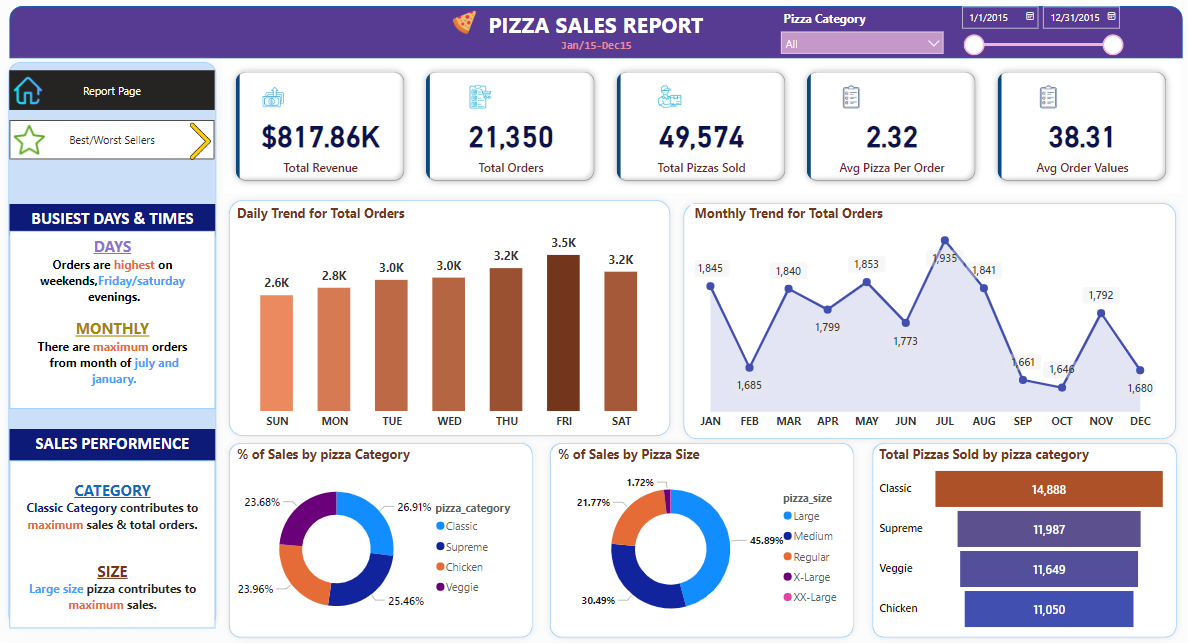

The dashboard page shown, as its layout file describes it:
{"tool":"powerbi","page":{"name":"Report Page","canvas":[1500,820],"ordinal":0},"visuals":[{"type":"cardVisual","fields":{"Data":["Measure Table.Total Revenue","Measure Table.Total Orders","Measure Table.Total sold","Measure Table.Avg Pizza Per Order","Measure Table.Avg Order Values"]},"box":[274.4,90.8,1194.3,168.3],"z":0},{"type":"shape","box":[9.3,25.8,1459.7,65.1],"z":1000},{"type":"textbox","box":[594,25.8,291.3,53.7],"z":2000},{"type":"textbox","box":[684.9,58.9,108.5,28.9],"z":3000},{"type":"image","box":[433.9,26.9,284.1,40.3],"z":4000},{"type":"shape","box":[274.8,259.3,565.1,309.9],"z":5000},{"type":"shape","box":[0,87.8,274.8,720],"z":6000},{"type":"columnChart","title":"Daily Trend for Total Orders","fields":{"Category":["pizza_sales.Order Day"],"Y":["Measure Table.Total Orders"]},"box":[288.2,272.7,538.2,289.3],"z":7000},{"type":"shape","box":[839.9,262.4,629.1,309.9],"z":8000},{"type":"areaChart","title":"Monthly Trend for Total Orders","fields":{"Category":["pizza_sales.Order Month"],"Y":["Measure Table.Total Orders"]},"box":[856.4,272.7,583.7,289.3],"z":9000},{"type":"shape","box":[274.8,562,394,258.3],"z":10000},{"type":"shape","box":[1074.4,562,394.6,258.3],"z":11000},{"type":"shape","box":[674.6,562,394,258.3],"z":12000},{"type":"donutChart","title":"% of Sales by pizza Category","fields":{"Category":["pizza_sales.pizza_category"],"Y":["Measure Table.Total Revenue"]},"box":[288.2,572.3,366.7,235.5],"z":13000},{"type":"textbox","box":[9.3,272.7,256.2,40.3],"z":14000},{"type":"donutChart","title":"% of Sales by Pizza Size","fields":{"Category":["pizza_sales.pizza_size"],"Y":["Measure Table.Total Revenue"]},"box":[687,572.3,369.8,235.5],"z":15000},{"type":"funnel","title":"Total Pizzas Sold by pizza category","fields":{"Category":["pizza_sales.pizza_category"],"Y":["Measure Table.Total Pizzas Sold"]},"box":[1086.8,572.3,367.8,235.5],"z":16000},{"type":"textbox","box":[9.3,305.8,256.2,221.1],"z":17000},{"type":"textbox","box":[9.3,551.7,256.2,40.3],"z":18000},{"type":"textbox","box":[9.3,591.9,256.2,208.7],"z":19000},{"type":"slicer","fields":{"Values":["pizza_sales.pizza_category"]},"box":[958.7,25.8,222.1,64],"z":20000},{"type":"slicer","fields":{"Values":["pizza_sales.order_date"]},"box":[1181,17.3,222.3,73.4],"z":21000},{"type":"pageNavigator","box":[9.2,106.1,256,50],"z":21001},{"type":"pageNavigator","box":[9.2,168.3,256,50],"z":21002},{"type":"image","box":[9.2,106.1,45.9,50],"z":21003},{"type":"image","box":[218.3,165.2,56.1,56.1],"z":21005},{"type":"image","box":[9.2,168.3,49,49],"z":21006}]}

Visuals, with their boxes in screenshot pixels (x1, y1, x2, y2), scaled from the page's 1500x820 canvas onto the 1188x643 screenshot:
cardVisual - Measure Table.Total Revenue x Measure Table.Total Orders: [217,71,1163,203]
shape: [7,20,1163,71]
textbox: [470,20,701,62]
textbox: [542,46,628,69]
image: [344,21,569,53]
shape: [218,203,665,446]
shape: [0,69,218,633]
"Daily Trend for Total Orders" columnChart: [228,214,655,441]
shape: [665,206,1163,449]
"Monthly Trend for Total Orders" areaChart: [678,214,1141,441]
shape: [218,441,530,642]
shape: [851,441,1163,642]
shape: [534,441,846,642]
"% of Sales by pizza Category" donutChart: [228,449,519,633]
textbox: [7,214,210,245]
"% of Sales by Pizza Size" donutChart: [544,449,837,633]
"Total Pizzas Sold by pizza category" funnel: [861,449,1152,633]
textbox: [7,240,210,413]
textbox: [7,433,210,464]
textbox: [7,464,210,628]
slicer - pizza_sales.pizza_category: [759,20,935,70]
slicer - pizza_sales.order_date: [935,14,1111,71]
pageNavigator: [7,83,210,122]
pageNavigator: [7,132,210,171]
image: [7,83,44,122]
image: [173,130,217,174]
image: [7,132,46,170]
